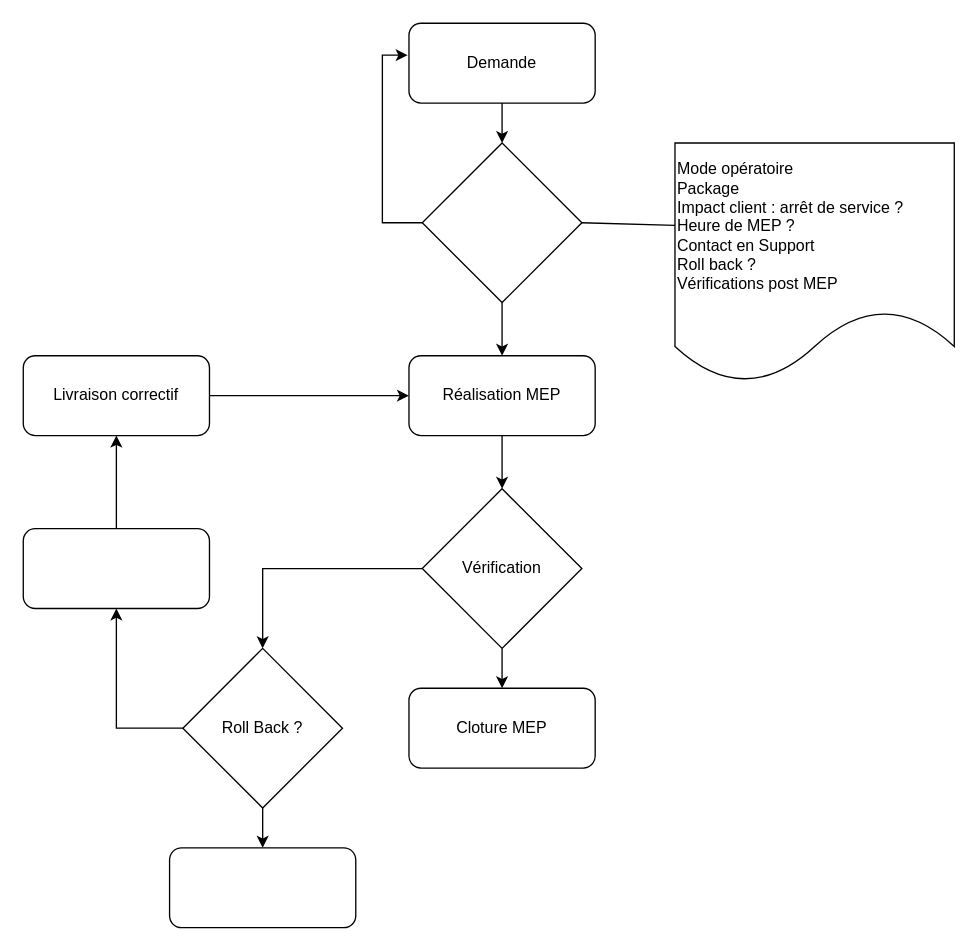
This 978x951 diagram has some shape labels left out. Here are the shapes that lost their labels. From the top down, the centre of each, then its label:
At [501,222]: "Vérification demande".
At [115,567]: "Contact support".
At [262,887]: "Réalisation Roll back".
